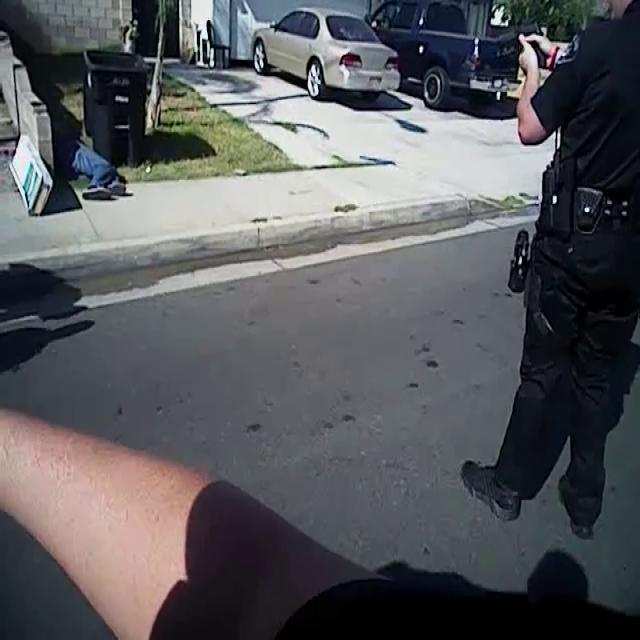gun: (488, 15, 566, 82)
